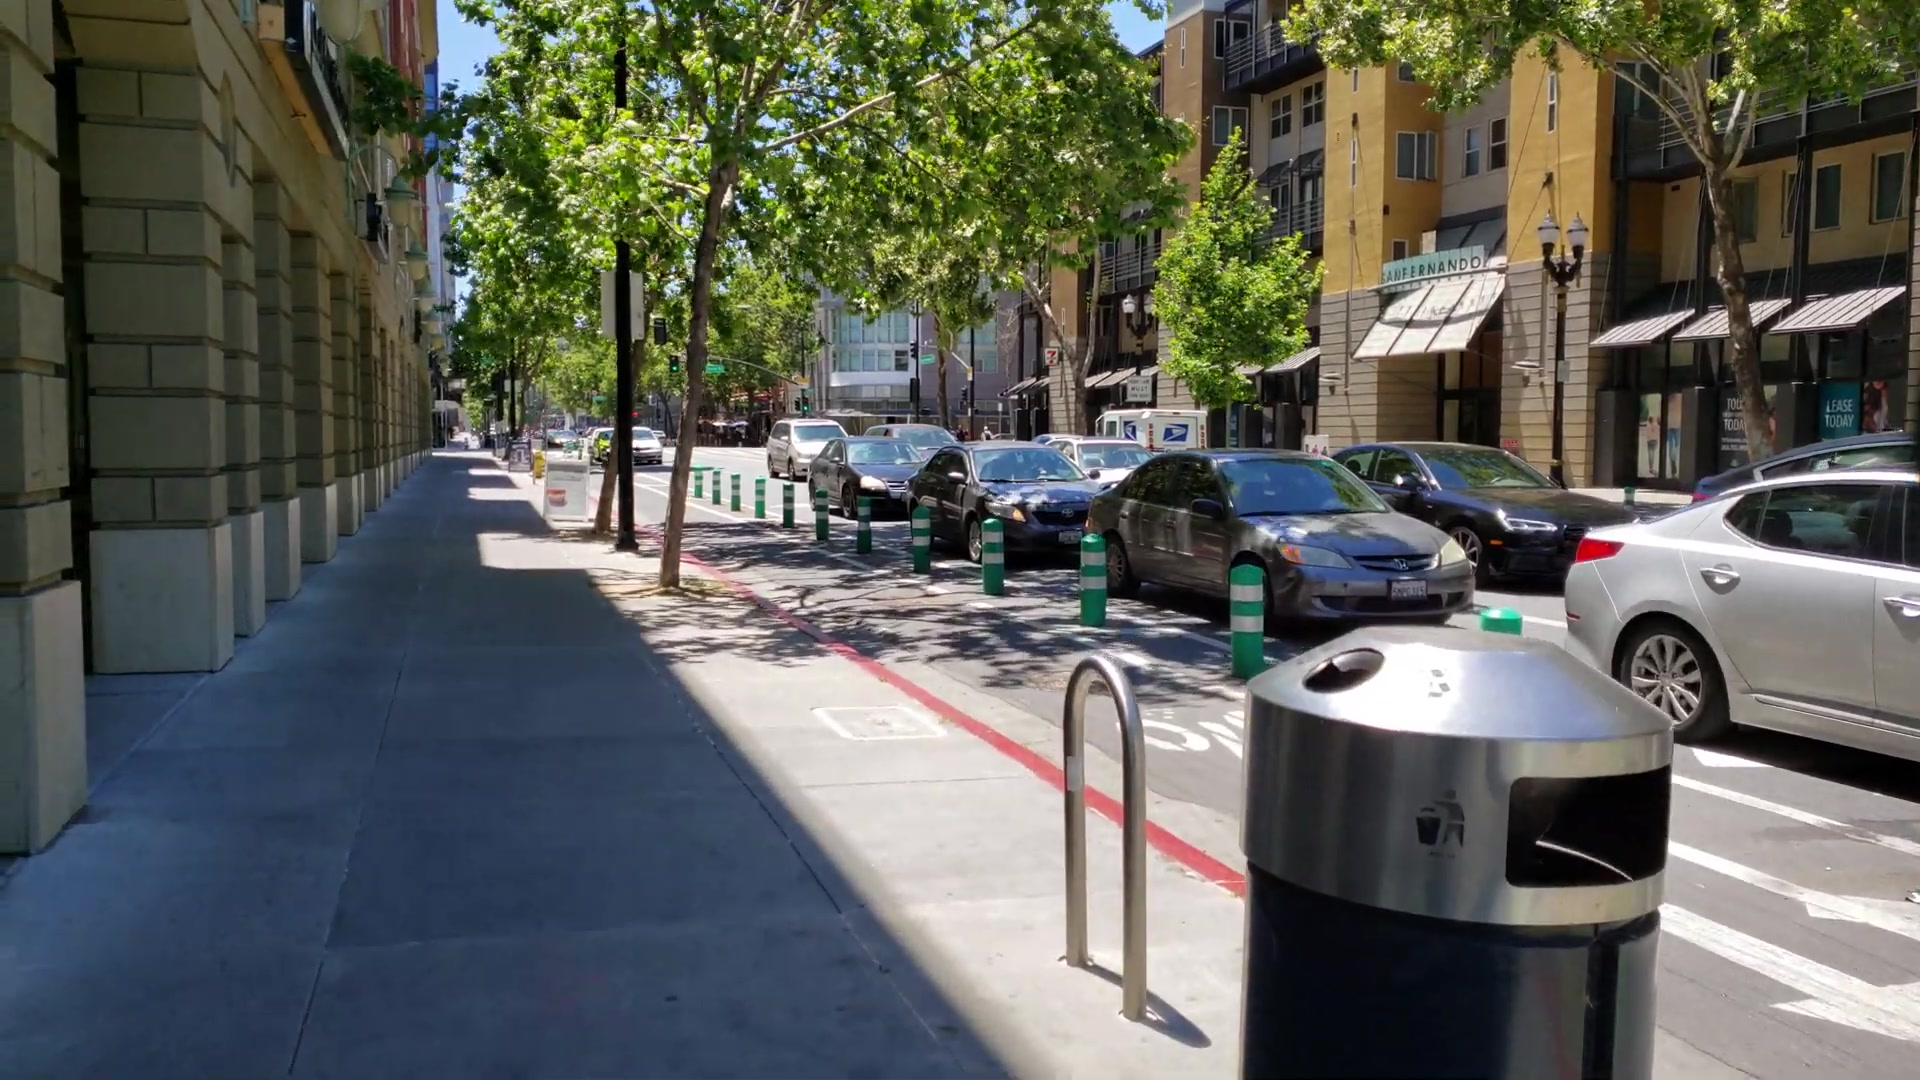vehicle: (1084, 450, 1482, 626), (905, 446, 1097, 564), (807, 436, 924, 512)
